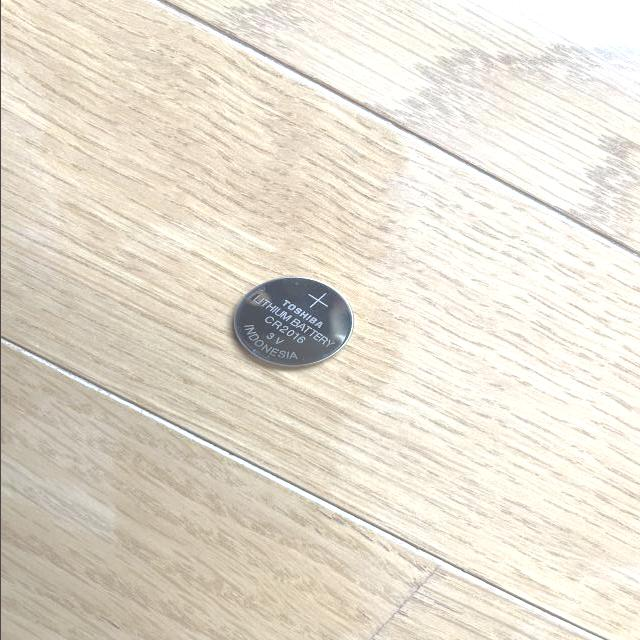COIN: (228, 274, 354, 373)
